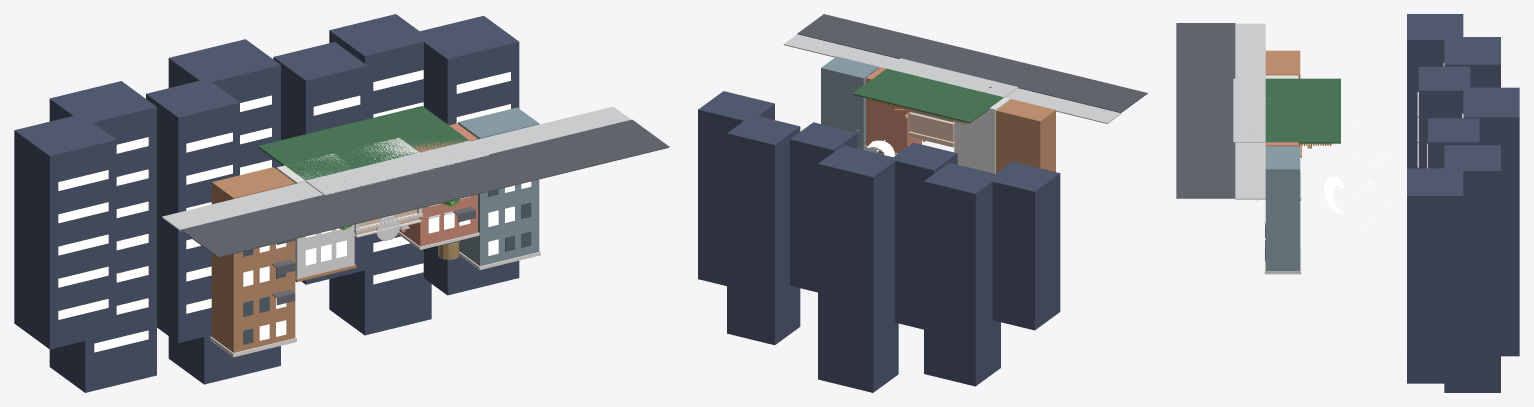
Rendered from cookie_shop_scene.glb.
3 views of the same model, side by side, from view 1: azimuth 30°, elevation 25°; view 2: azimuth 150°, elevation 25°; view 3: azimuth 270°, elevation 25° (orthographic). The views are drawn at different scales.
Visible parts, largest first — view 1: City_Skyline_6, City_Skyline_5, City_Skyline_4, City_Road_Extended, City_Skyline_1, City_Skyline_0, City_Skyline_3, City_Bld_R2_Main, Backyard_Lawn, City_Skyline_2, City_Bld_L2_Main, Street_Road (+6 smaller); view 2: City_Skyline_3, City_Skyline_5, City_Skyline_1, City_Skyline_6, City_Road_Extended, City_Skyline_0, City_Skyline_4, City_Skyline_2, Backyard_Lawn, City_Bld_R2_Main, City_Bld_L2_Main, City_Bld_R1_Main (+6 smaller); view 3: City_Skyline_0, City_Skyline_1, City_Road_Extended, City_Skyline_3, Backyard_Lawn, City_Bld_L2_Main, City_Skyline_6, City_Skyline_4, Street_Road, City_Skyline_5, Sidewalk_Base, City_Skyline_2 (+4 smaller).
Part boxes in pixels (left/top/right/bottom): City_Skyline_6: left=14, top=114, right=116, bottom=349; City_Skyline_5: left=49, top=81, right=156, bottom=392; City_Skyline_4: left=146, top=80, right=239, bottom=342; City_Road_Extended: left=180, top=119, right=669, bottom=257; City_Skyline_1: left=329, top=14, right=431, bottom=335; City_Skyline_0: left=412, top=15, right=519, bottom=295; City_Skyline_3: left=168, top=39, right=280, bottom=384; City_Bld_R2_Main: left=211, top=167, right=295, bottom=352; Backyard_Lawn: left=258, top=106, right=468, bottom=180; City_Skyline_2: left=273, top=42, right=367, bottom=284; City_Bld_L2_Main: left=458, top=107, right=539, bottom=266; Street_Road: left=315, top=152, right=521, bottom=213; City_Skyline_3: left=818, top=145, right=898, bottom=392; City_Skyline_5: left=924, top=162, right=1000, bottom=386; City_Skyline_1: left=727, top=116, right=800, bottom=345; City_Skyline_6: left=988, top=161, right=1060, bottom=330; City_Road_Extended: left=797, top=14, right=1147, bottom=112; City_Skyline_0: left=698, top=91, right=774, bottom=285; City_Skyline_4: left=893, top=142, right=957, bottom=329; City_Skyline_2: left=790, top=122, right=857, bottom=292; Backyard_Lawn: left=852, top=68, right=1003, bottom=123; City_Bld_R2_Main: left=996, top=99, right=1055, bottom=173; City_Bld_L2_Main: left=821, top=56, right=879, bottom=153; City_Bld_R1_Main: left=954, top=97, right=1010, bottom=173; City_Skyline_0: left=1407, top=168, right=1463, bottom=383; City_Skyline_1: left=1444, top=145, right=1500, bottom=392; City_Road_Extended: left=1176, top=23, right=1235, bottom=198; City_Skyline_3: left=1463, top=87, right=1519, bottom=356; Backyard_Lawn: left=1265, top=78, right=1340, bottom=143; City_Bld_L2_Main: left=1265, top=146, right=1300, bottom=271; City_Skyline_6: left=1407, top=14, right=1463, bottom=168; City_Skyline_4: left=1418, top=66, right=1470, bottom=168; Street_Road: left=1198, top=74, right=1234, bottom=146; City_Skyline_5: left=1444, top=37, right=1500, bottom=87; Sidewalk_Base: left=1234, top=78, right=1265, bottom=142; City_Skyline_2: left=1428, top=118, right=1479, bottom=168.
Bounding box in the file's own units: 860 × 521 × 679.
